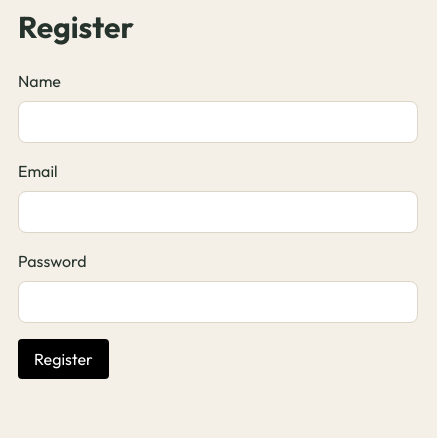
Scenario: RegisterPage › shows error message when registration fails
Step 1. Type "Abina" into the field labelled "Name" → [218, 122], box x1=18 y1=101 x2=418 y2=143
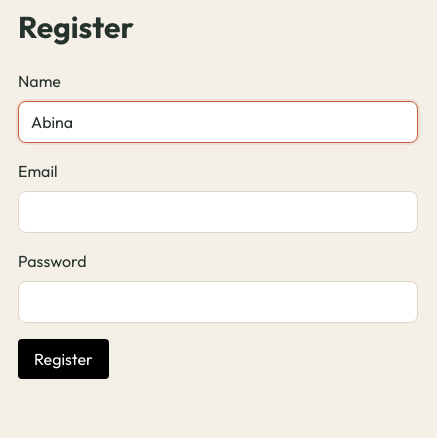
Step 2. Type "abina@test.com" into the field labelled "Email" → [218, 212], box x1=18 y1=191 x2=418 y2=233
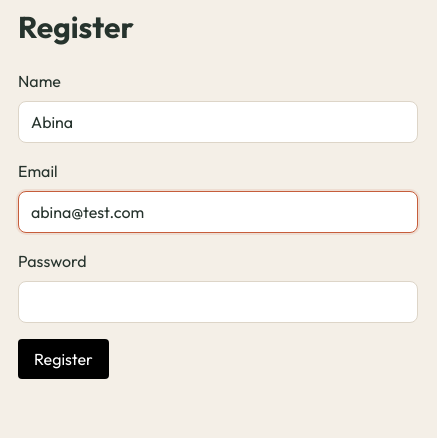
Step 3. Type "password123" into the password field labelled "Password" → [218, 302], box x1=18 y1=281 x2=418 y2=323
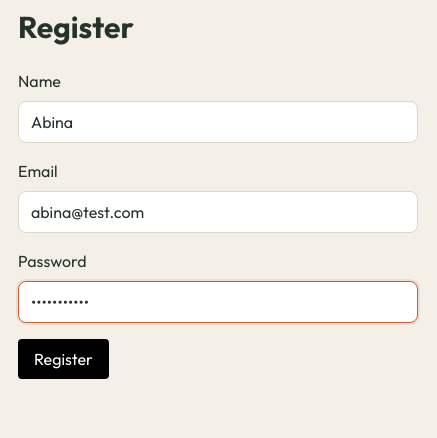
Step 4. Click the button "Register" → [63, 359], box x1=18 y1=339 x2=109 y2=379
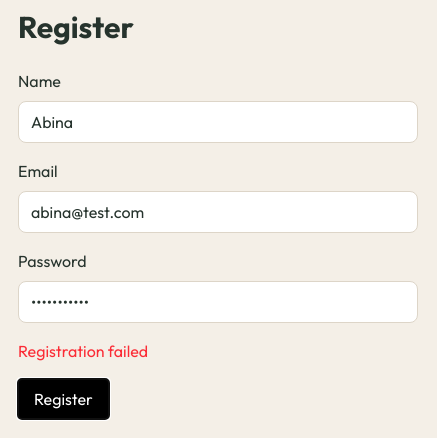
Check: the text "Registration failed" is shown, box x1=18 y1=341 x2=148 y2=361
